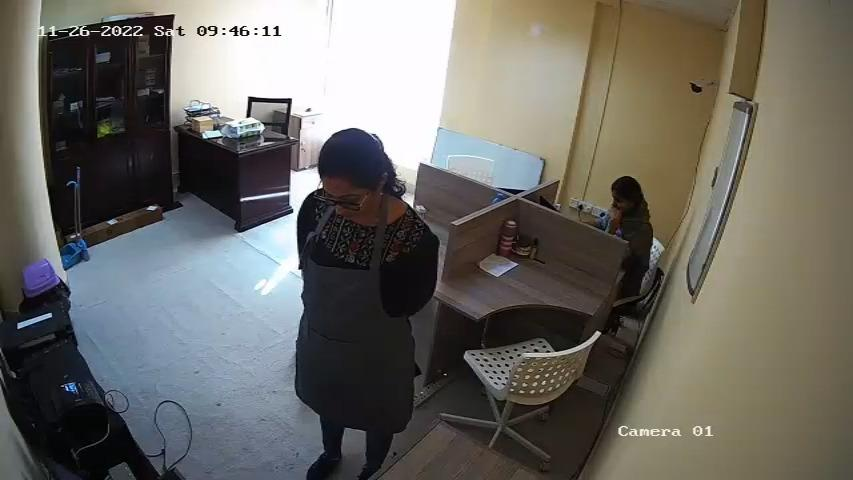apron: (300, 213, 412, 402)
